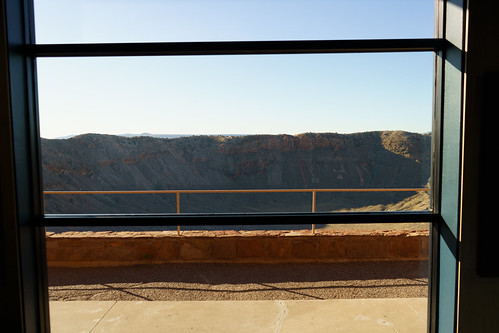mountain: (50, 117, 421, 165)
sky: (34, 1, 432, 127)
